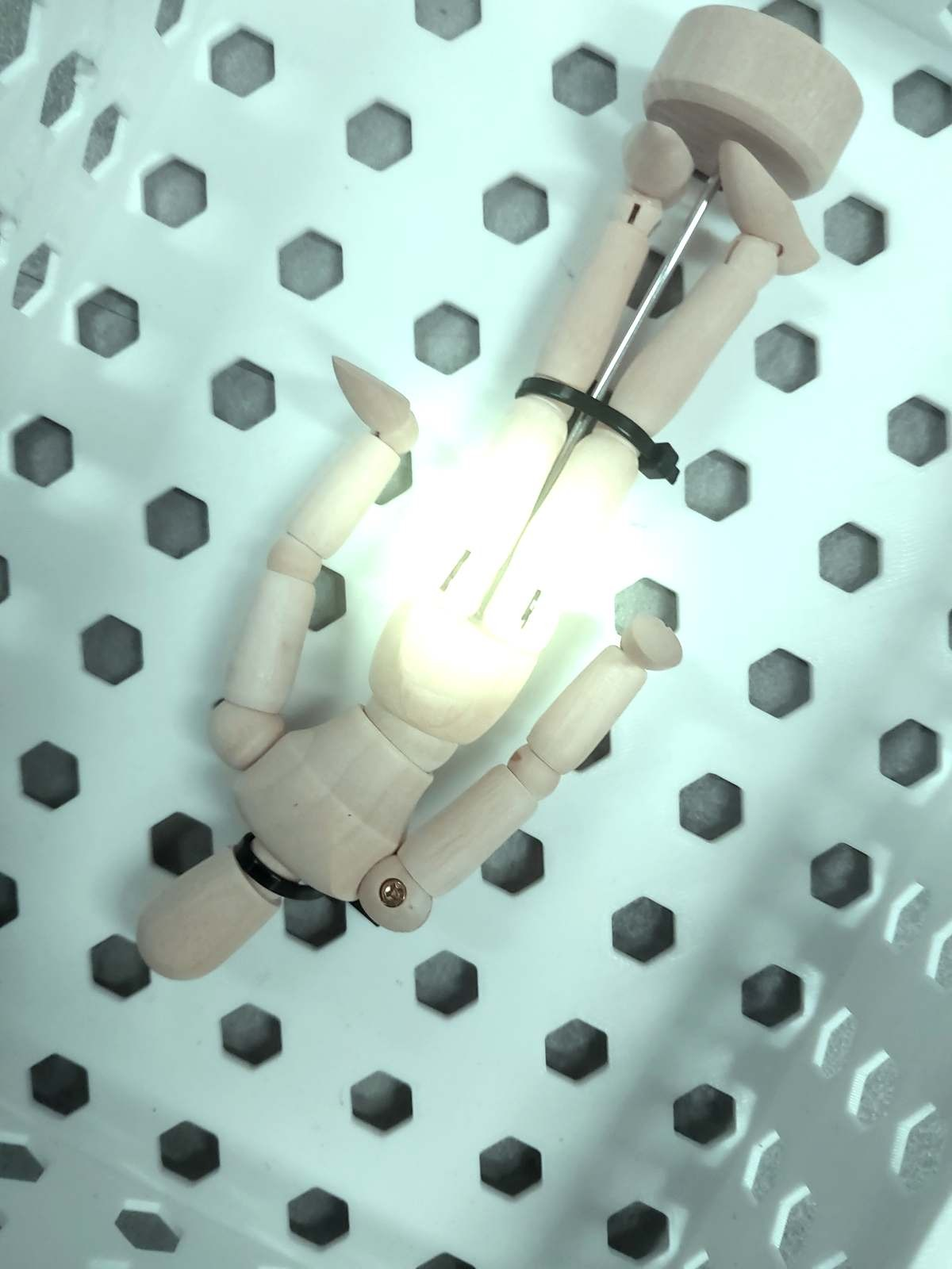mannequin: (129, 0, 871, 996)
